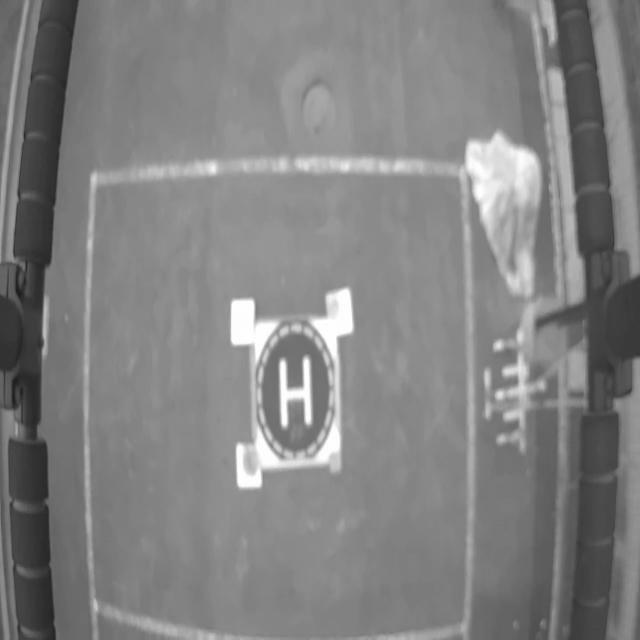Helipad: (278, 356, 312, 429)
